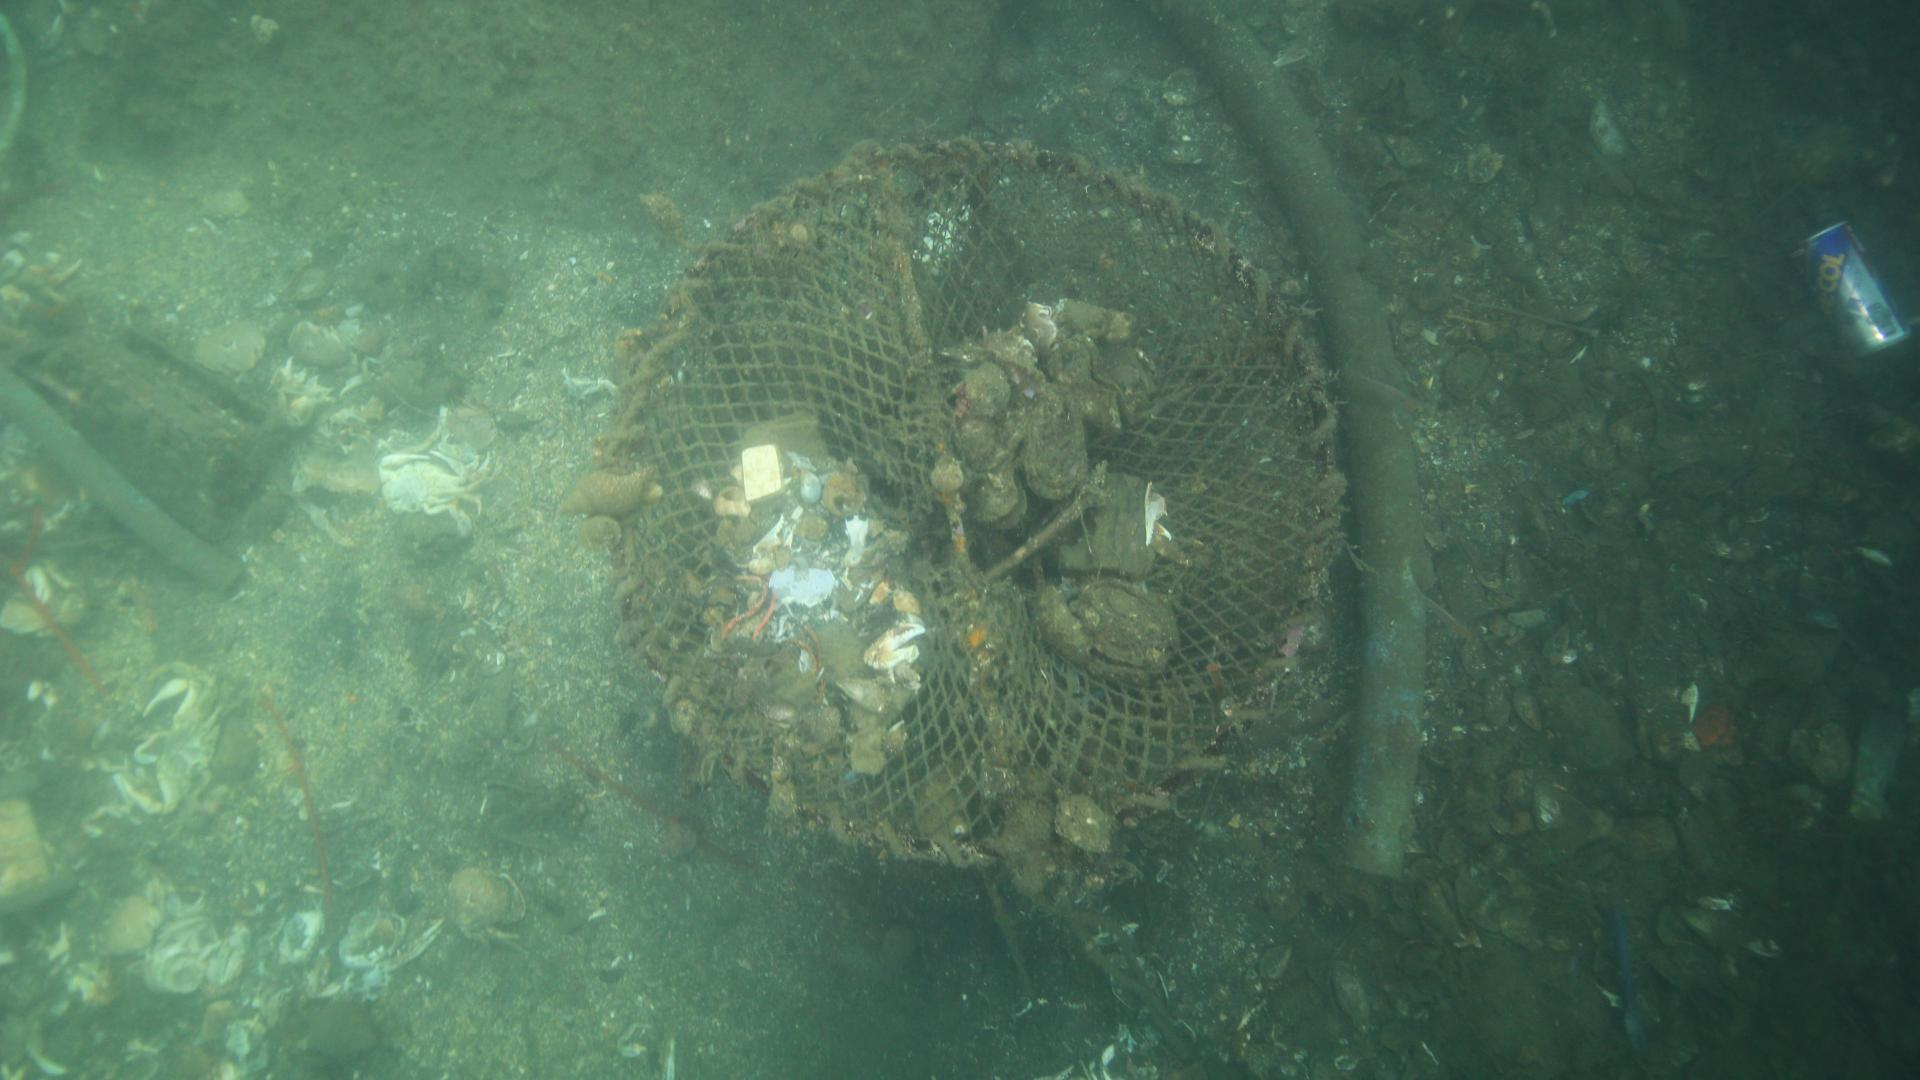circular fish trap: (584, 145, 1349, 886)
